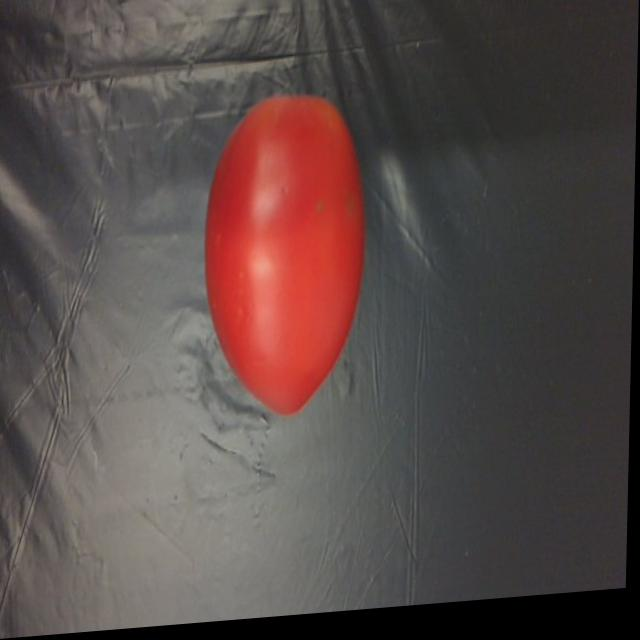kirmizi: (201, 73, 370, 438)
